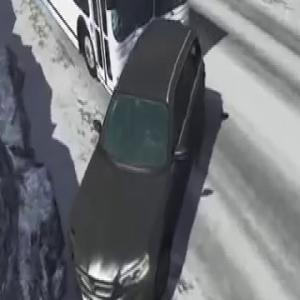negligible: (0, 0, 209, 300)
